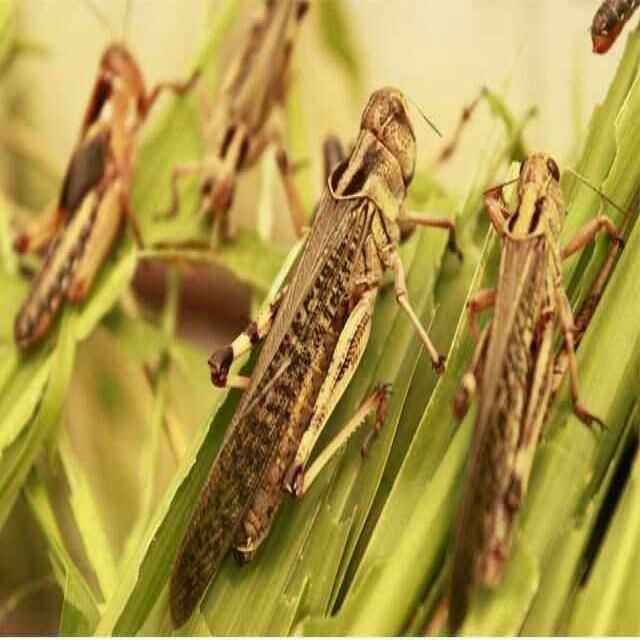ZhaMeng: (174, 75, 427, 625), (454, 131, 604, 613), (15, 34, 160, 361)
